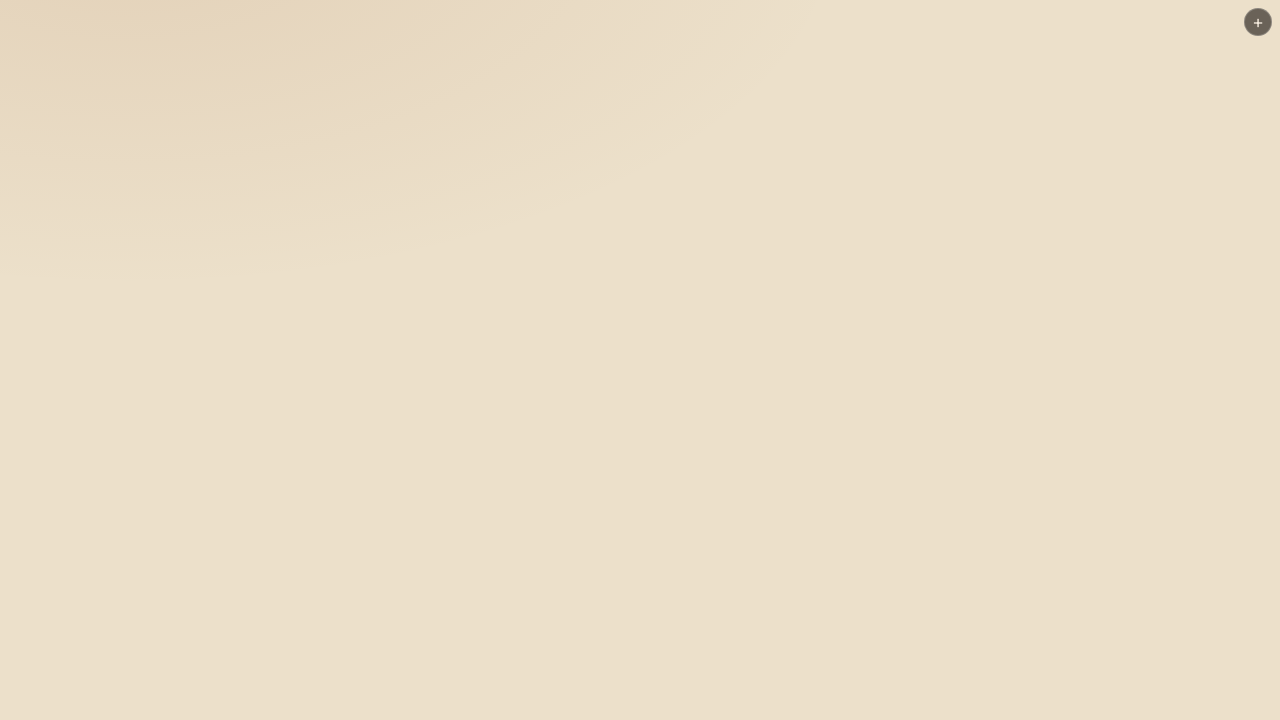
quick add › shows an error in the toast when saving fails
Click the button named "Quick add Frieren" at (1258, 22), box [1244, 8, 1272, 36]
(page scrolled)
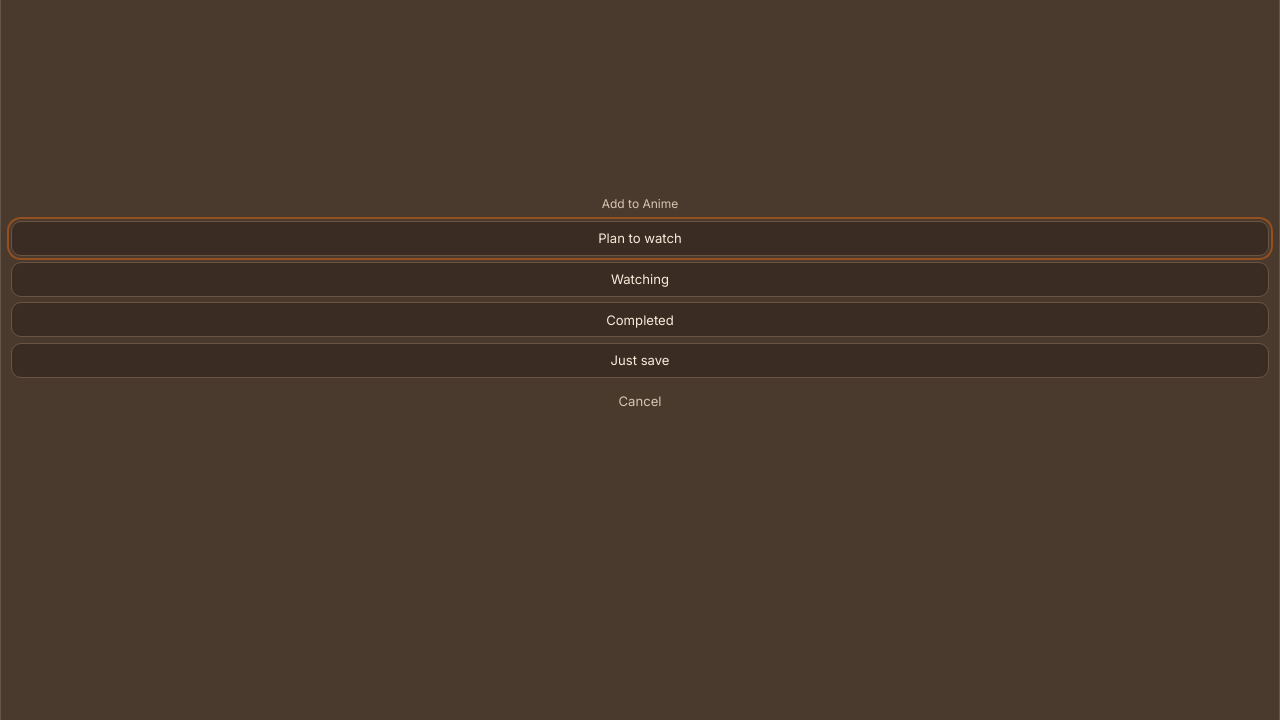
Click the button "Just save" at (640, 361), box [11, 343, 1269, 378]
(page scrolled)
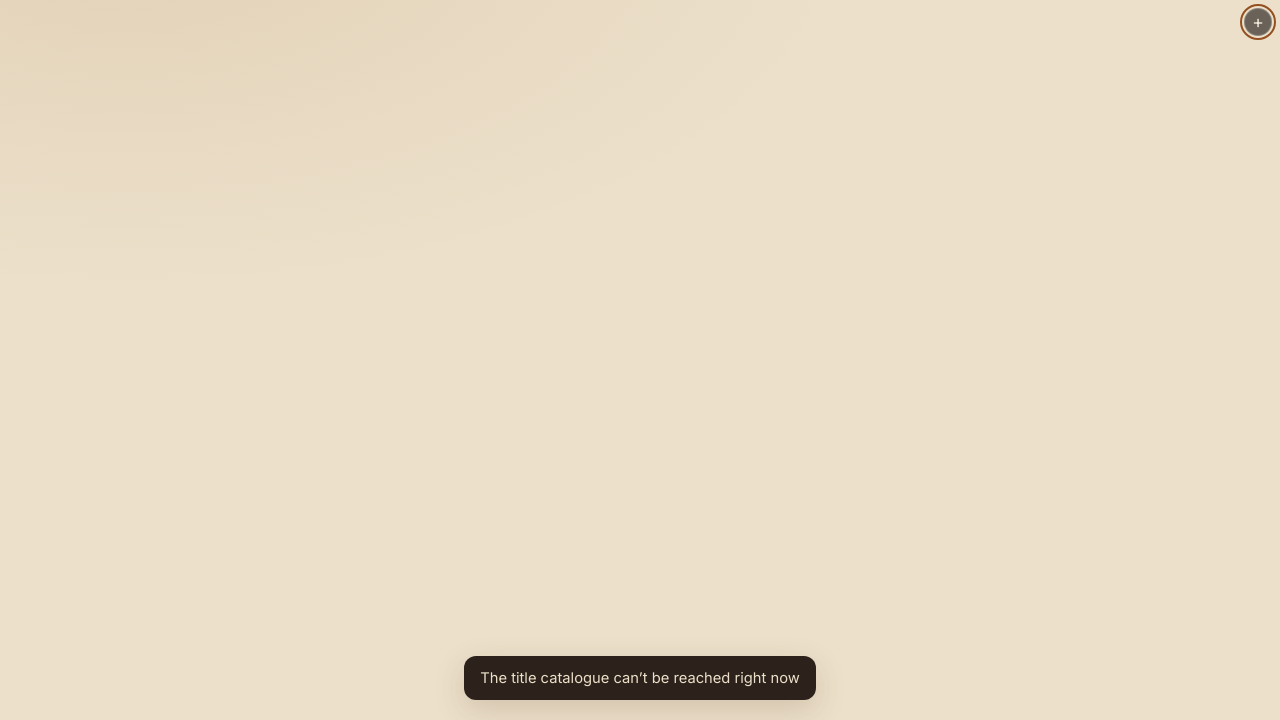
Expected: the text "The title catalogue can’t be reached right now" is shown, [480, 667, 800, 690]
